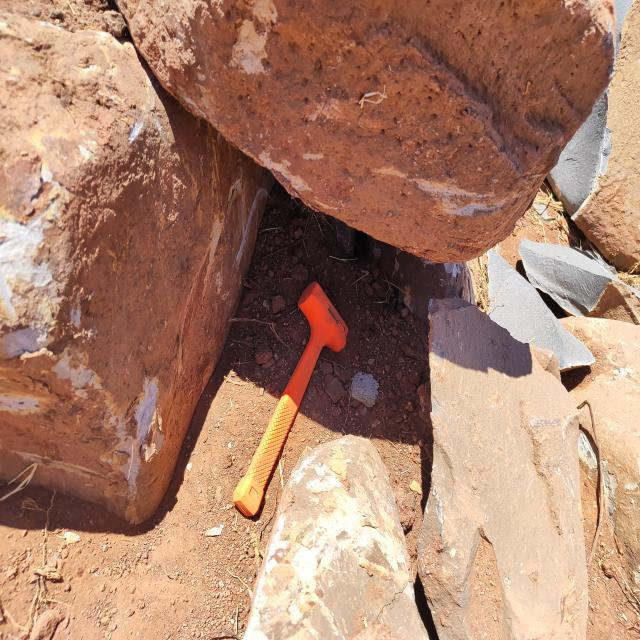Orange_hammer: (232, 280, 348, 518)
